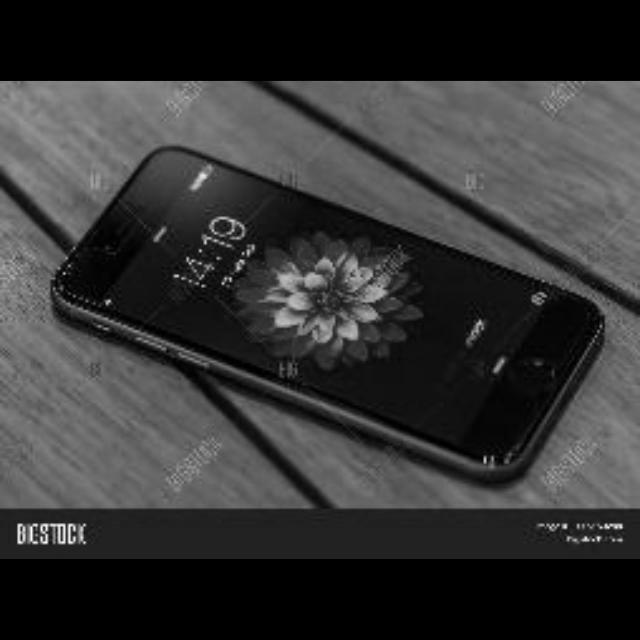fake: (9, 67, 640, 494)
